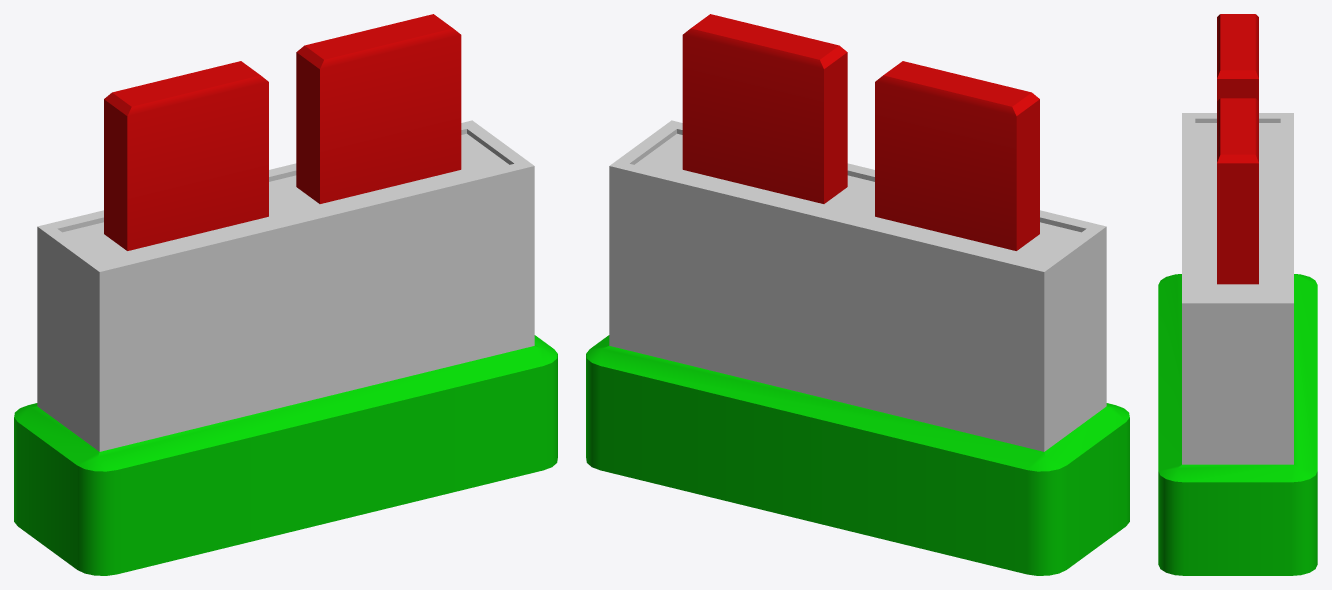
The model's file is Fuse.fbx.
3 renders of one model, left to right at view 1: azimuth 30°, elevation 25°; view 2: azimuth 150°, elevation 25°; view 3: azimuth 270°, elevation 25°, orthographic. The views are drawn at different scales.
Parts seen in each view (by area): view 1: Fuse; view 2: Fuse; view 3: Fuse.
Boxes of the visible parts, x1,y1,x2,y2 form: Fuse: (14, 14, 557, 575); Fuse: (586, 14, 1129, 575); Fuse: (1158, 14, 1317, 575).
Bounding box in the file's own units: 62.31 × 53.72 × 20.07.
